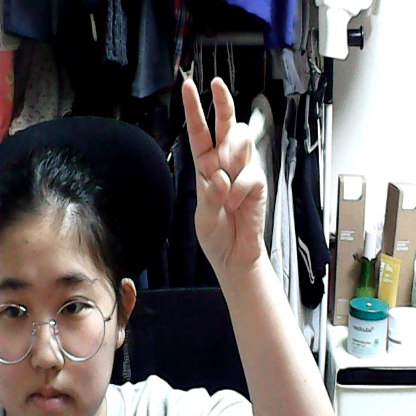Finger_2: (172, 65, 287, 280)
